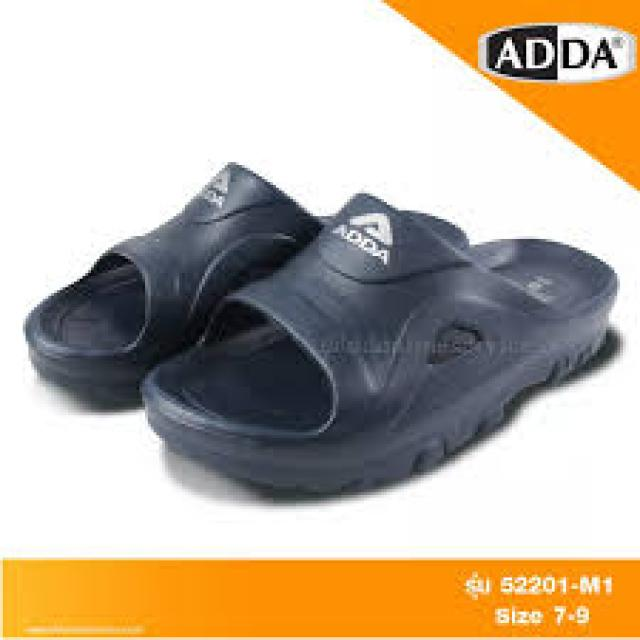shoe: (22, 158, 614, 494), (147, 191, 618, 492)
